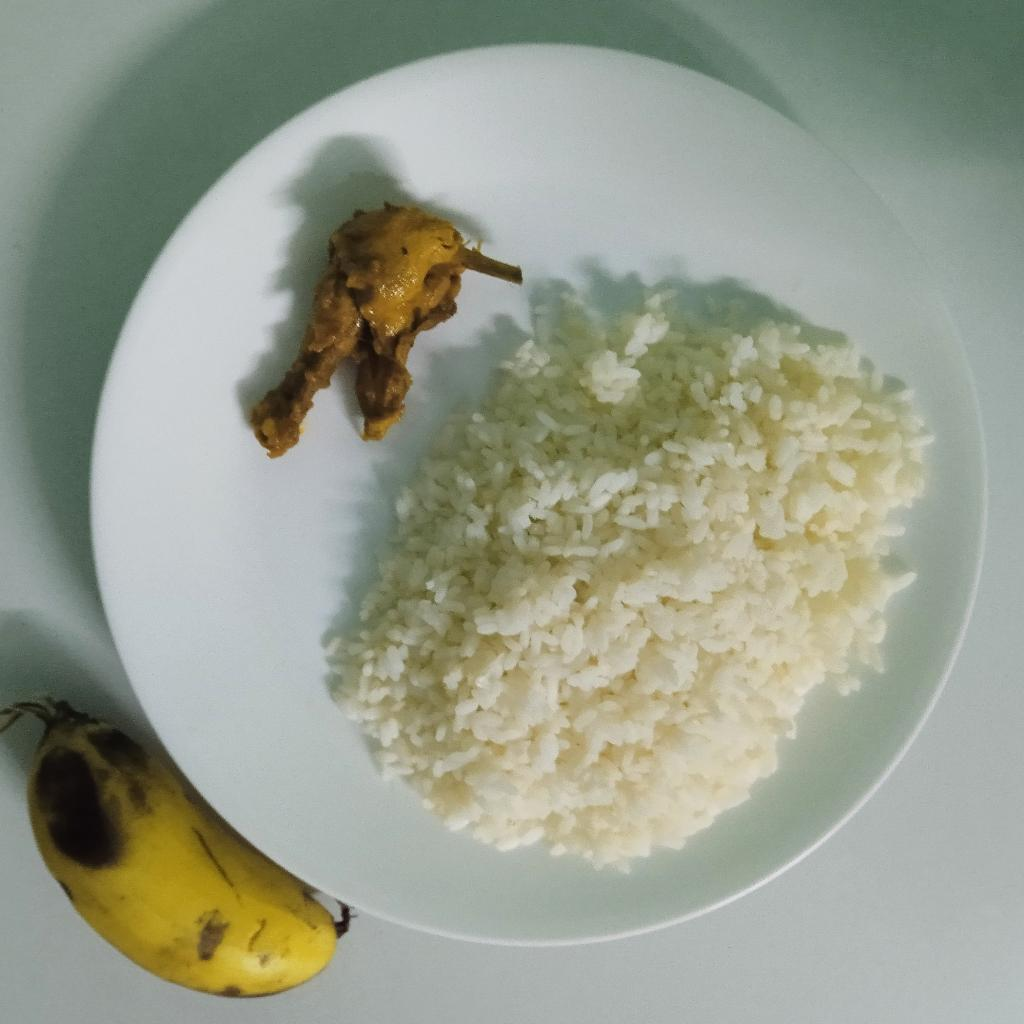banana: (27, 699, 338, 1001)
chicken: (250, 207, 524, 462)
rice: (326, 289, 943, 875)
